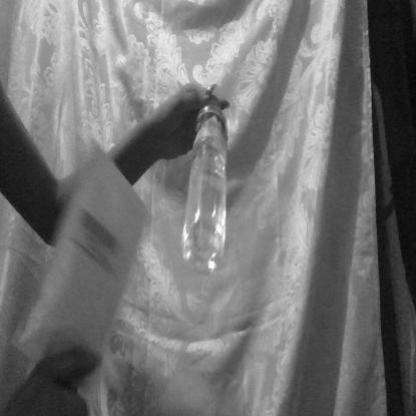Plastic Bottle: (178, 85, 235, 276)
